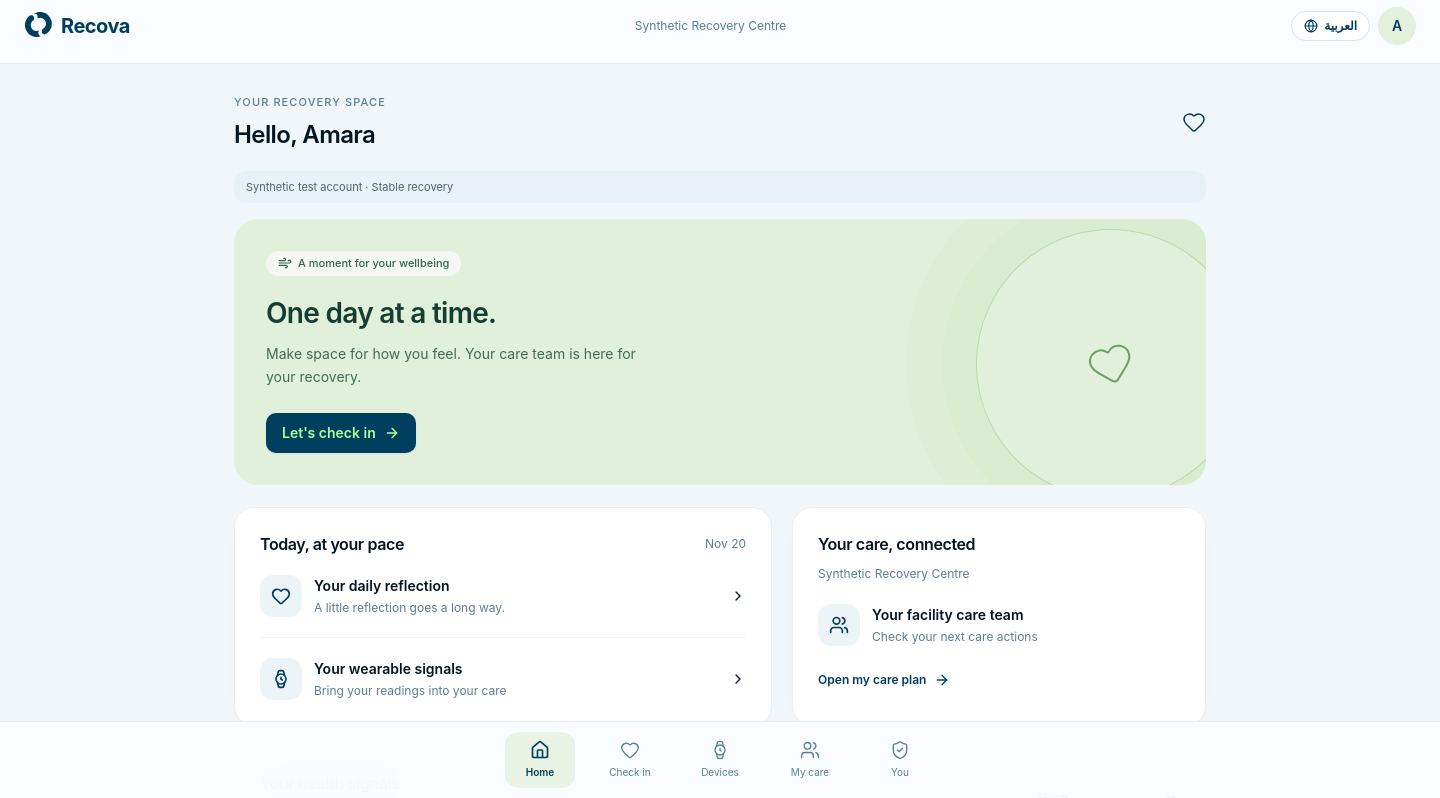
it: Participant programme journeys › submits a scoped reflection and confirms receipt
Expected: the heading "Hello, Amara" is shown, [234,118,386,150]
Click the button "Check in": (630, 760) [595,732,665,788]
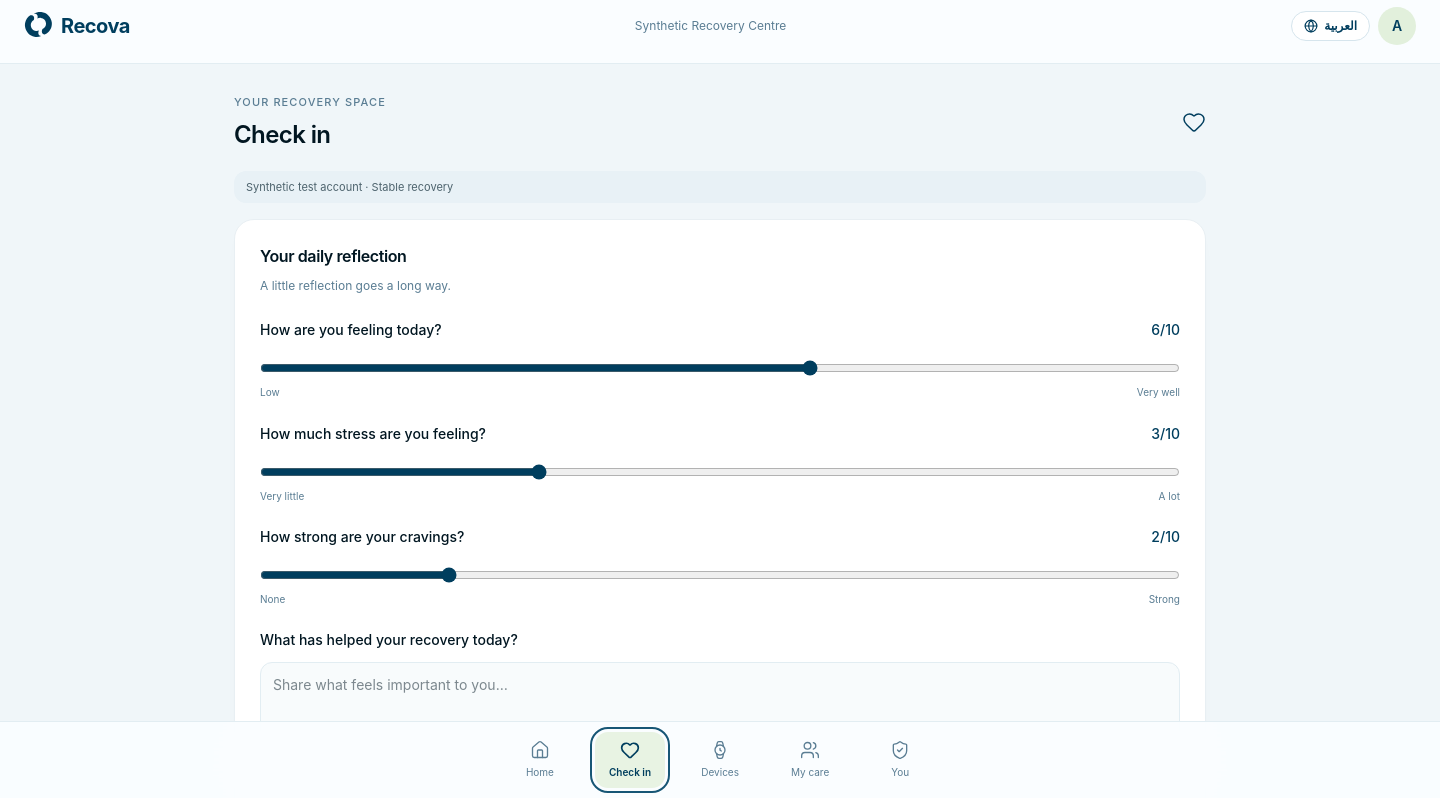
In the text box with placeholder "Share what feels important to you…": (720, 715) [260,662,1180,768], type "A settled day"
(page scrolled)
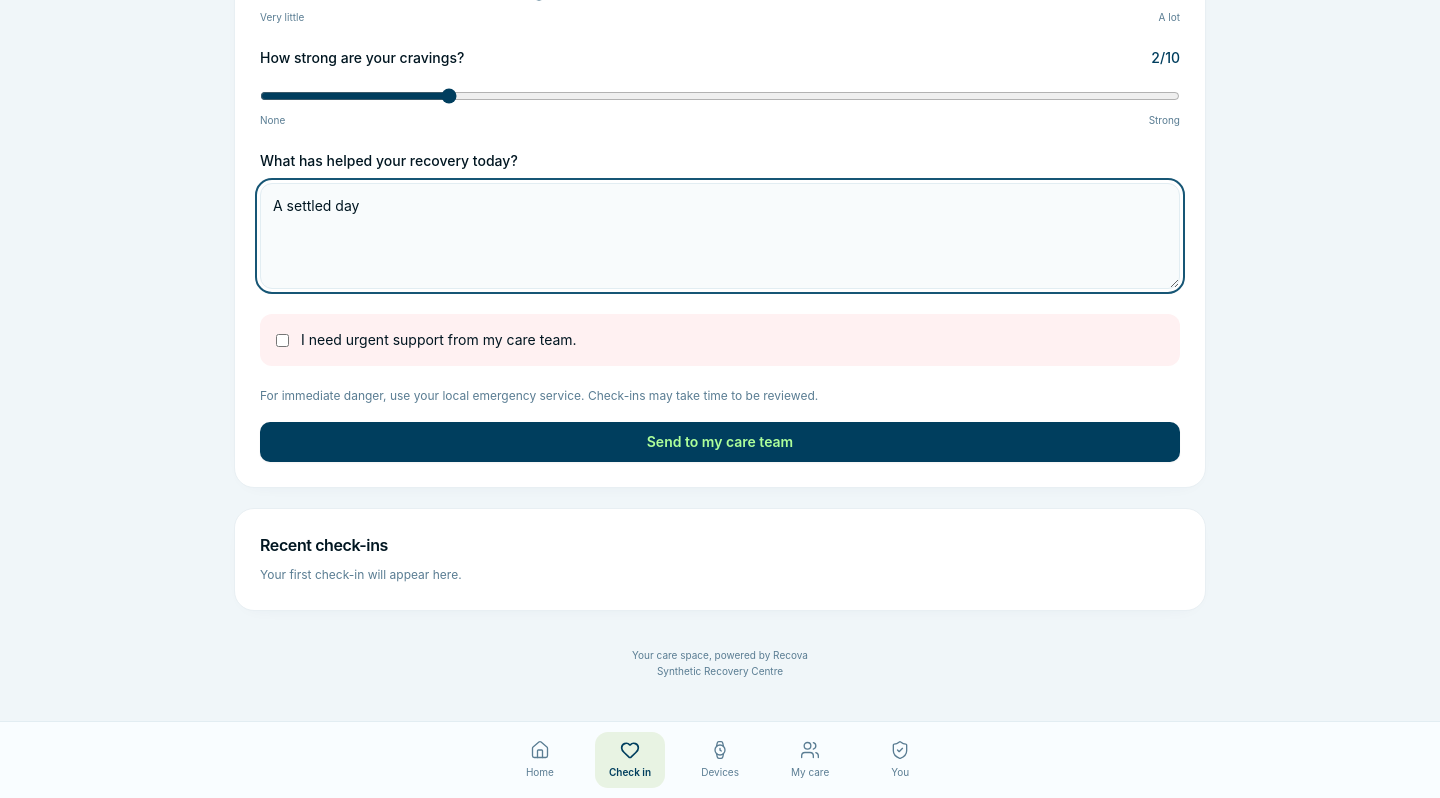
Click the button "Send to my care team": (720, 442) [260,422,1180,462]
(page scrolled)
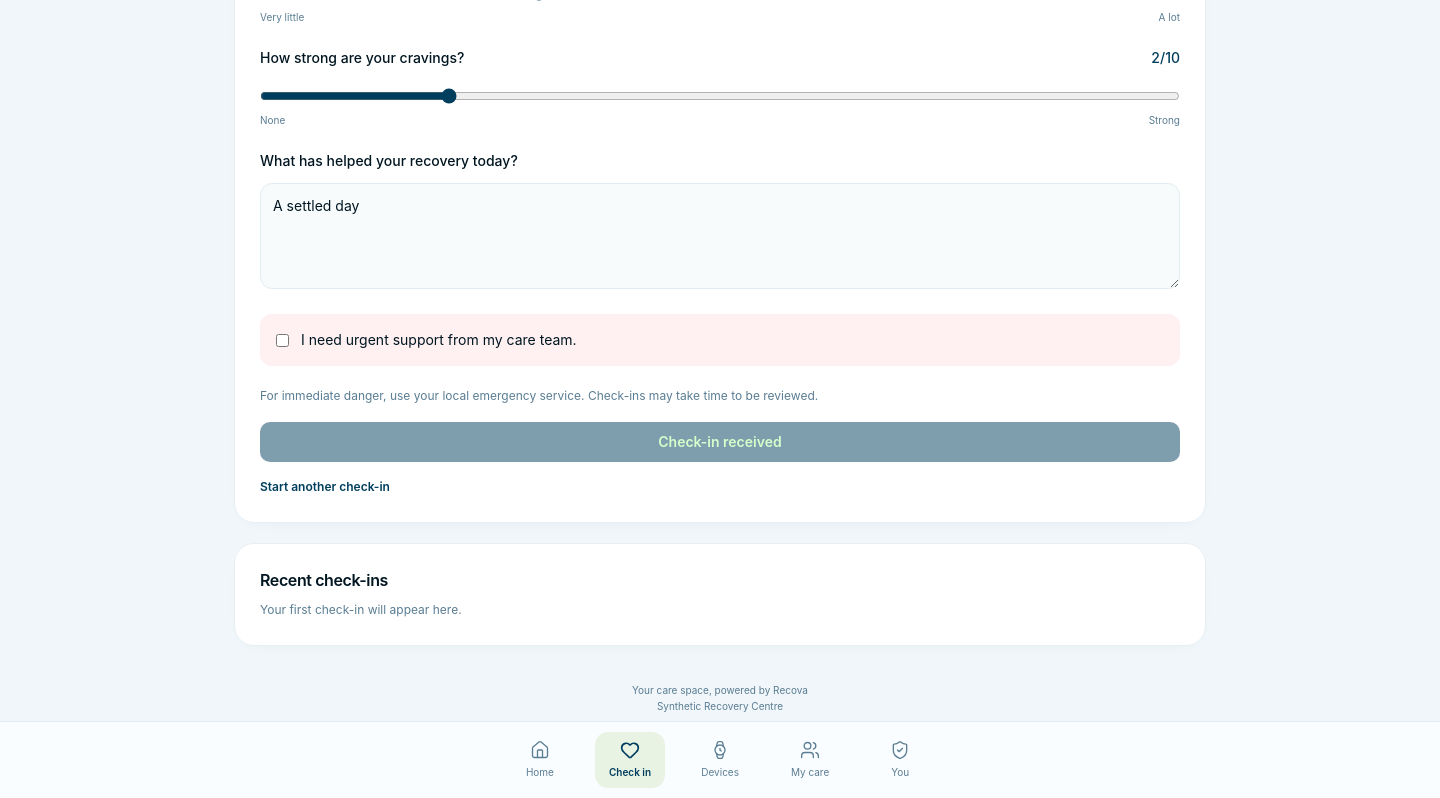
Now the button "Check-in received" is disabled, box [260,422,1180,462]
